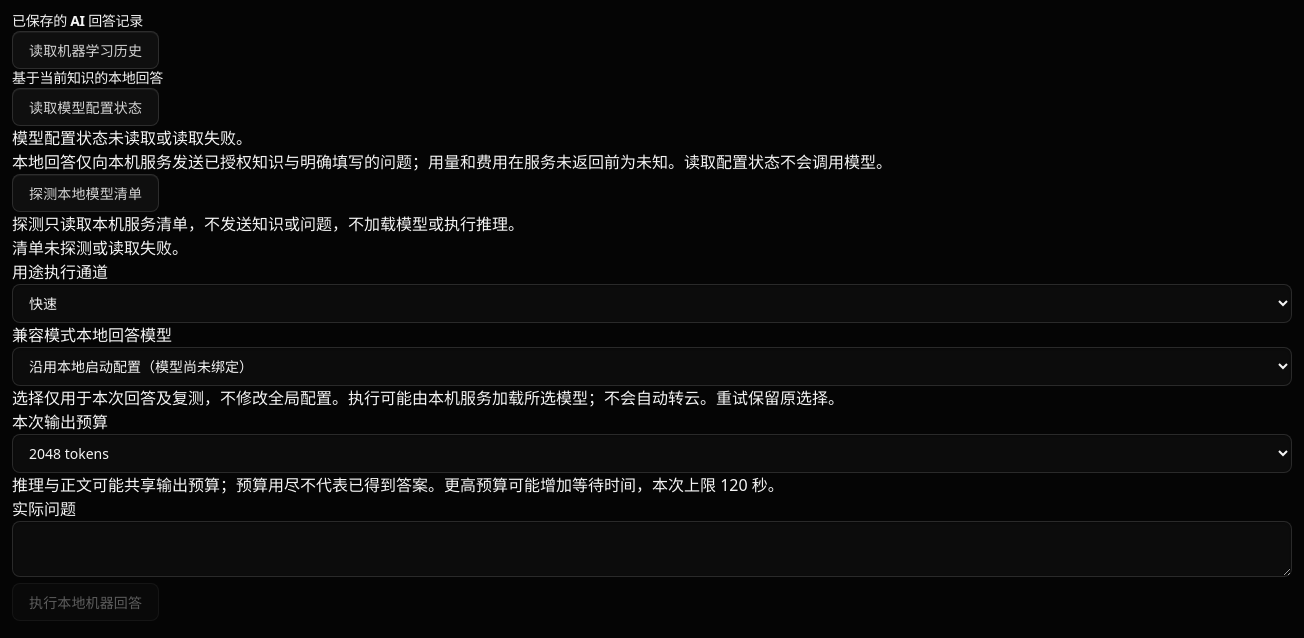
probes only after an explicit click and blocks a duplicate pending request
This screenshot has width=1304, height=638.
What coordinates should you click on to do the following:
click the button "探测本地模型清单"
I would click on:
 (86, 193)
Its box is [12, 174, 159, 212].
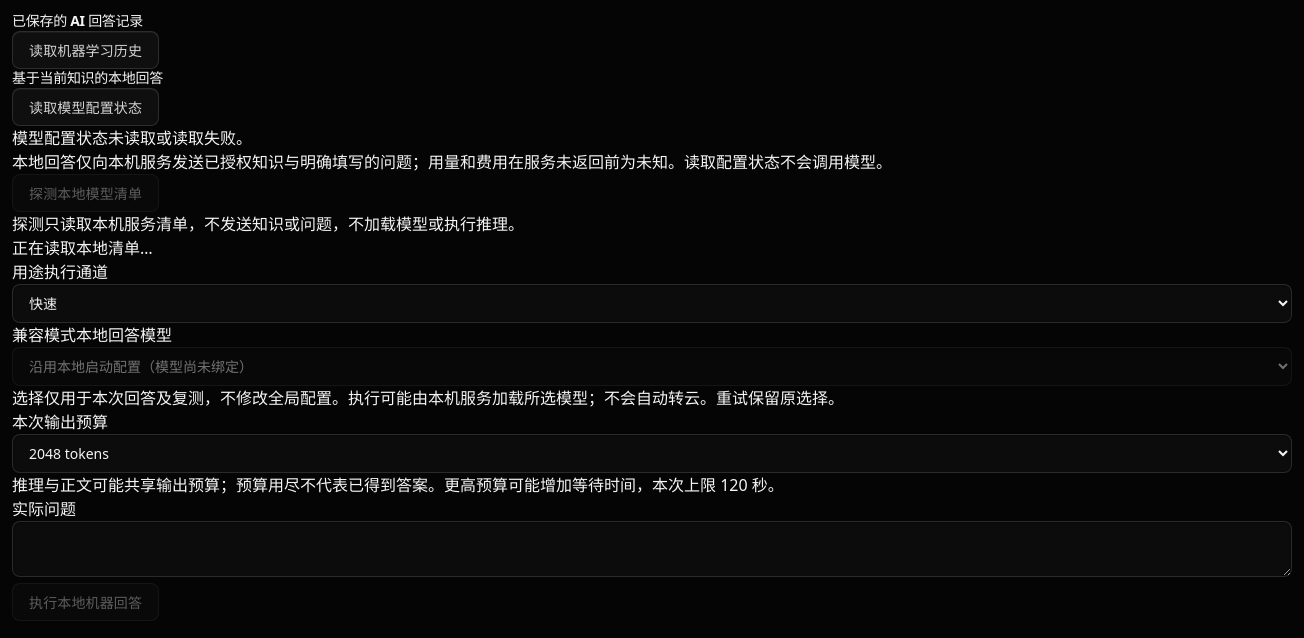
What coordinates should you click on to do the following:
click the button "探测本地模型清单"
I would click on:
 (86, 193)
Its box is [12, 174, 159, 212].
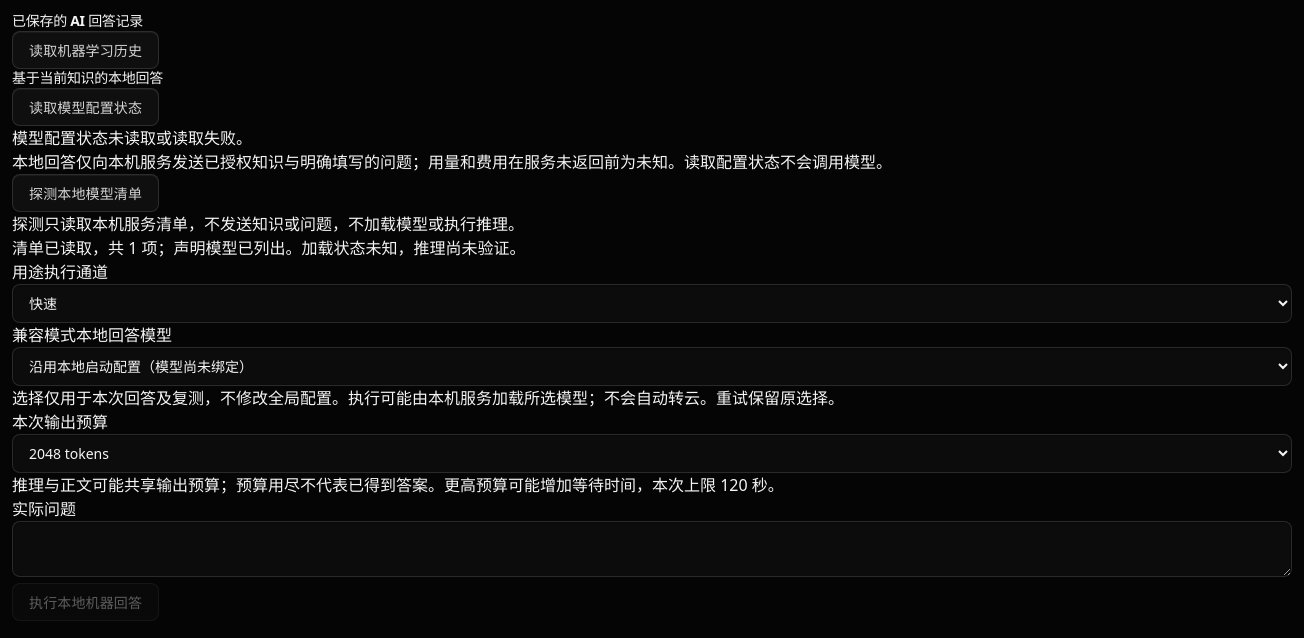
Now the text named "本地模型清单探测结果" shows "加载状态未知，推理尚未验证", box [12, 237, 526, 259]
